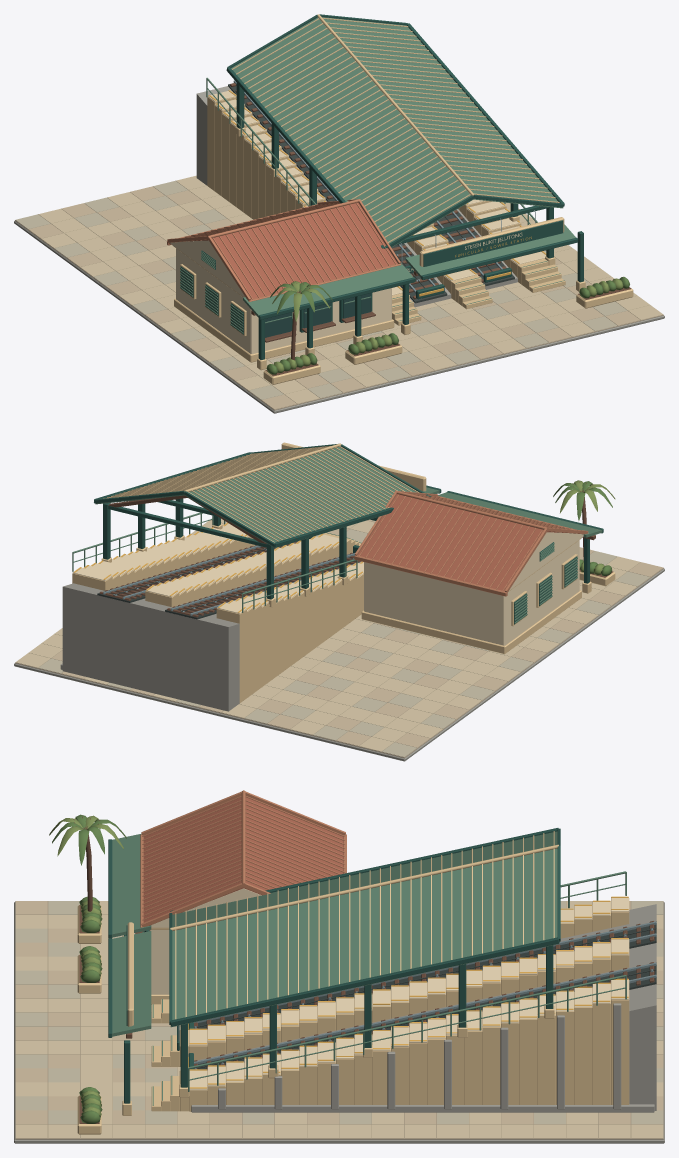
3 views of the same model, one above another, from view 1: azimuth 30°, elevation 25°; view 2: azimuth 150°, elevation 25°; view 3: azimuth 270°, elevation 25° (orthographic). The views are drawn at different scales.
Parts seen in each view (by area): view 1: Inclined Shelter Roof, Station Ground, Ticket Hall Roof, Stepped Boarding Platforms, Arrival Veranda, Ticket Hall, Arrival Planting, Inclined Track Bed, Ticket Windows, Station Signs, Rails and Cable Chairs, Inclined Shelter Frame (+1 smaller); view 2: Station Ground, Stepped Boarding Platforms, Inclined Shelter Roof, Inclined Track Bed, Ticket Hall Roof, Ticket Hall, Inclined Shelter Frame, Rails and Cable Chairs, Arrival Veranda, Arrival Planting, Platform Guardrail, Ticket Windows (+1 smaller); view 3: Stepped Boarding Platforms, Inclined Shelter Roof, Station Ground, Ticket Hall Roof, Inclined Track Bed, Arrival Veranda, Rails and Cable Chairs, Arrival Planting, Platform Guardrail, Inclined Shelter Frame, Ticket Hall, Station Signs.
Boxes of the visible parts, <box> form: Inclined Shelter Roof: <box>226,14,564,248</box>; Station Ground: <box>14,175,664,413</box>; Ticket Hall Roof: <box>167,199,401,301</box>; Stepped Boarding Platforms: <box>207,90,565,325</box>; Arrival Veranda: <box>243,224,585,370</box>; Ticket Hall: <box>173,246,394,362</box>; Arrival Planting: <box>263,276,633,384</box>; Inclined Track Bed: <box>196,84,517,307</box>; Ticket Windows: <box>180,264,375,342</box>; Station Signs: <box>400,210,564,272</box>; Rails and Cable Chairs: <box>230,80,511,299</box>; Inclined Shelter Frame: <box>235,83,555,265</box>; Station Ground: <box>14,518,664,761</box>; Stepped Boarding Platforms: <box>72,522,363,703</box>; Inclined Shelter Roof: <box>94,443,431,547</box>; Inclined Track Bed: <box>60,542,355,711</box>; Ticket Hall Roof: <box>354,490,588,596</box>; Ticket Hall: <box>361,538,581,654</box>; Inclined Shelter Frame: <box>101,495,378,607</box>; Rails and Cable Chairs: <box>99,537,361,617</box>; Arrival Veranda: <box>422,485,603,593</box>; Arrival Planting: <box>553,480,615,586</box>; Platform Guardrail: <box>72,512,357,612</box>; Ticket Windows: <box>511,554,577,626</box>; Stepped Boarding Platforms: <box>151,896,629,1111</box>; Inclined Shelter Roof: <box>169,828,560,1027</box>; Station Ground: <box>14,901,664,1143</box>; Ticket Hall Roof: <box>140,790,346,931</box>; Inclined Track Bed: <box>191,904,656,1112</box>; Arrival Veranda: <box>108,833,151,1115</box>; Rails and Cable Chairs: <box>188,921,656,1070</box>; Arrival Planting: <box>49,814,126,1134</box>; Platform Guardrail: <box>188,871,626,1091</box>; Inclined Shelter Frame: <box>179,945,554,1097</box>; Ticket Hall: <box>149,927,169,1004</box>; Station Signs: <box>126,922,179,1050</box>.
Bounding box in the file's own units: 23.6 × 10.17 × 27.2.
